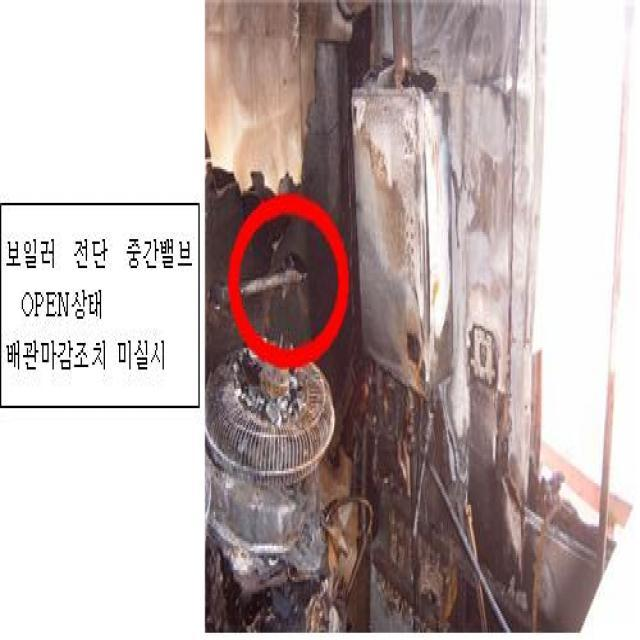Boiler: (338, 32, 479, 464)
